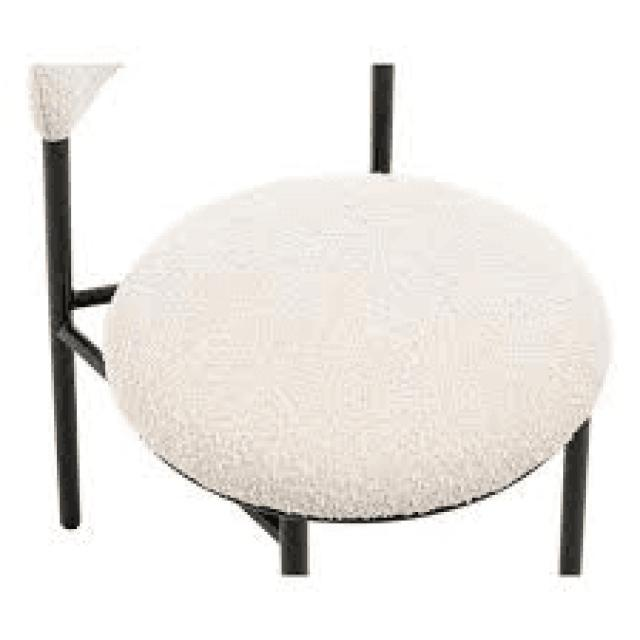chair: (25, 52, 620, 581), (28, 58, 580, 434)
